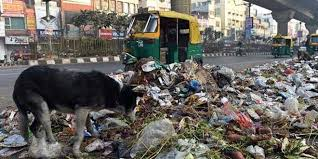garbage: (139, 66, 318, 158), (96, 127, 318, 158)
